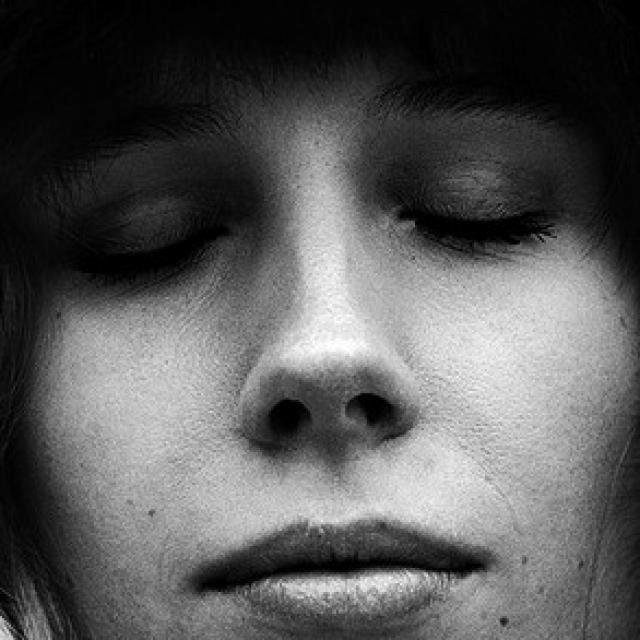real: (34, 66, 614, 636), (94, 168, 572, 278)
